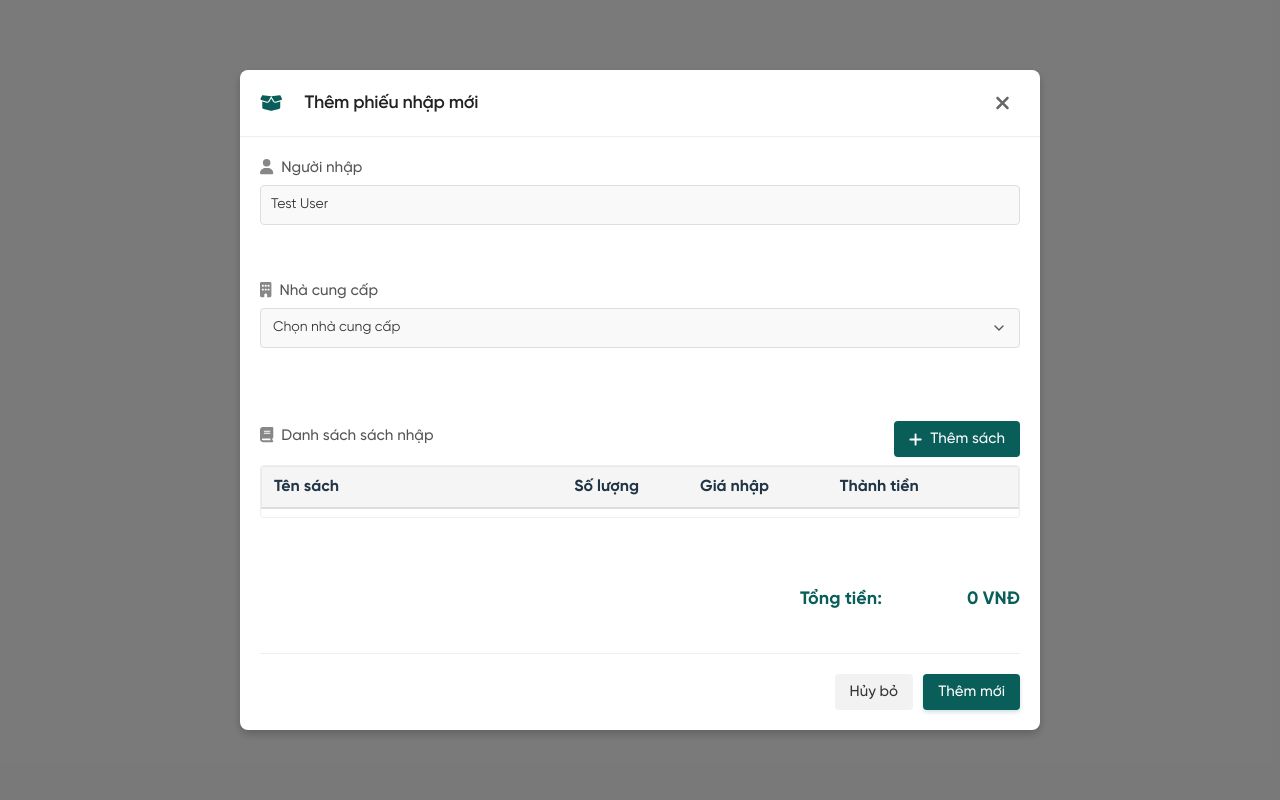
Test: ImportForm › shows error if submit without any book
// Chọn nhà cung cấp giả lập
Select "1" in the dropdown labelled "Nhà cung cấp" at coordinates (640, 328), box [260,308,1020,348]
Click the button "Thêm mới".
click(972, 692)  # box [923,674,1020,710]
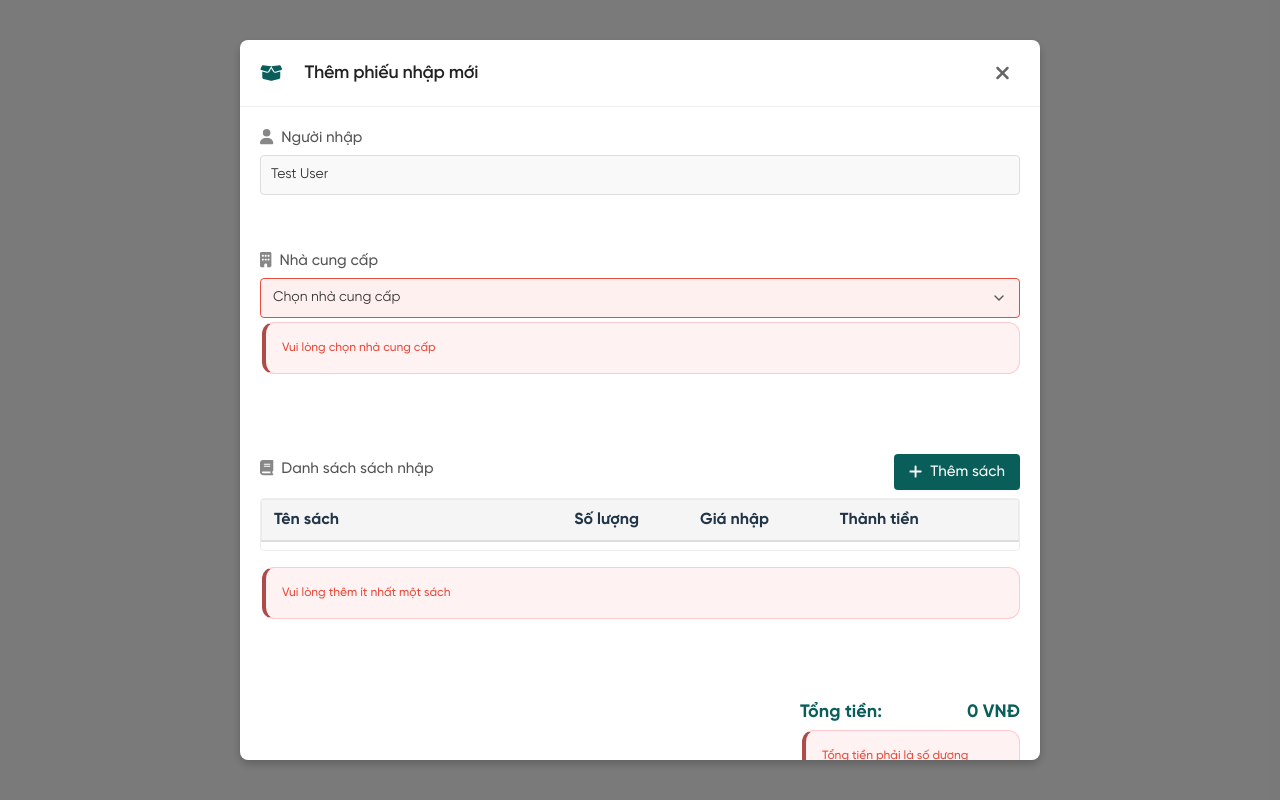
Now the text "Vui lòng thêm ít nhất một sách" is shown, box [262,567,1020,619]
